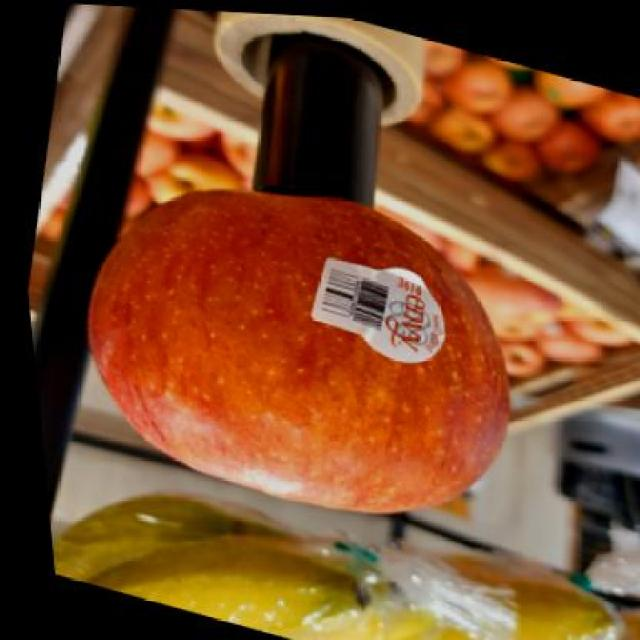Fresh Apple: (95, 198, 528, 512)
